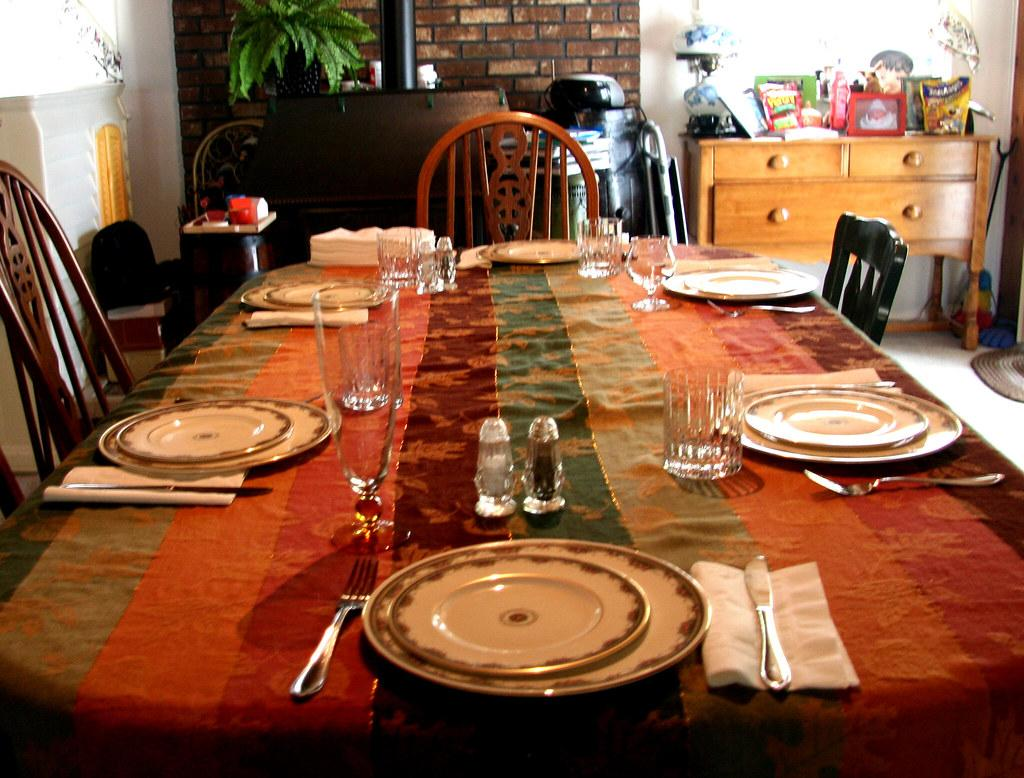table: (1, 228, 1024, 778)
